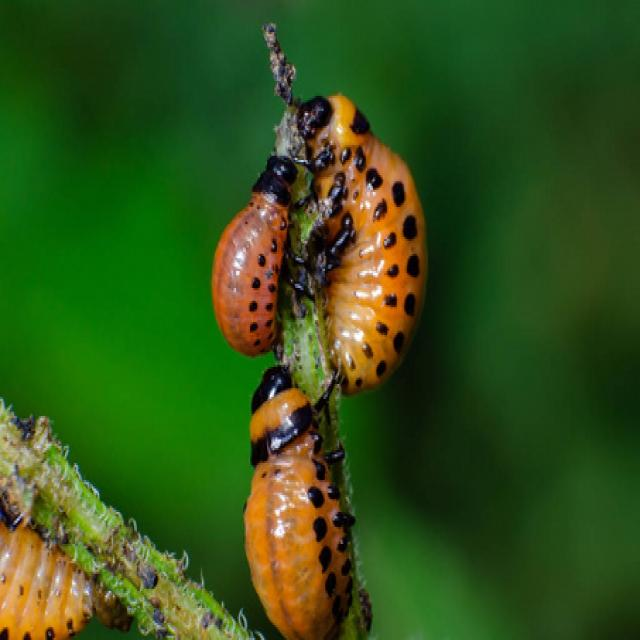ShuCaiHuaBanChong-Larva-: (298, 85, 464, 398), (240, 359, 372, 629), (203, 125, 312, 356)
